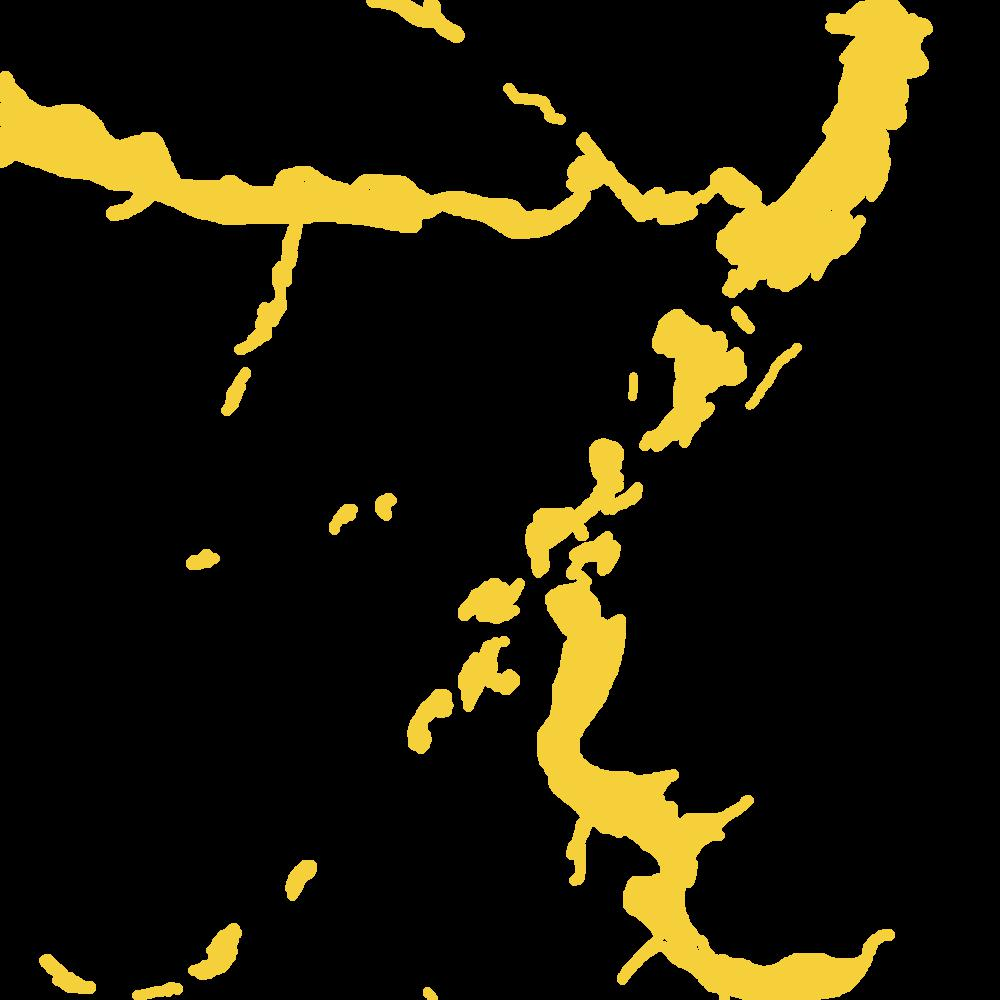legal: (1, 75, 462, 253), (563, 764, 898, 1000), (408, 439, 652, 751), (716, 1, 939, 301), (212, 238, 304, 419), (639, 311, 756, 446), (506, 133, 615, 249), (604, 169, 752, 236), (354, 1, 460, 46), (184, 914, 245, 974), (36, 945, 97, 997), (334, 498, 399, 530), (188, 548, 218, 574), (284, 859, 306, 891), (510, 88, 556, 103)
